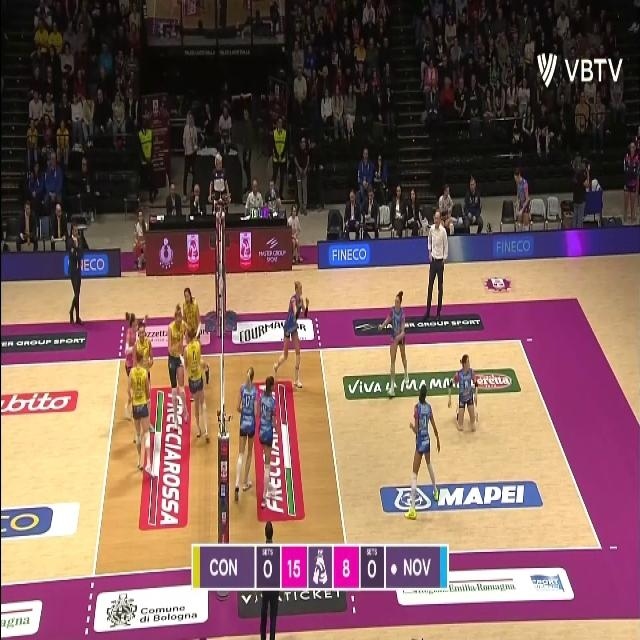volleyball court: (1, 337, 602, 584)
